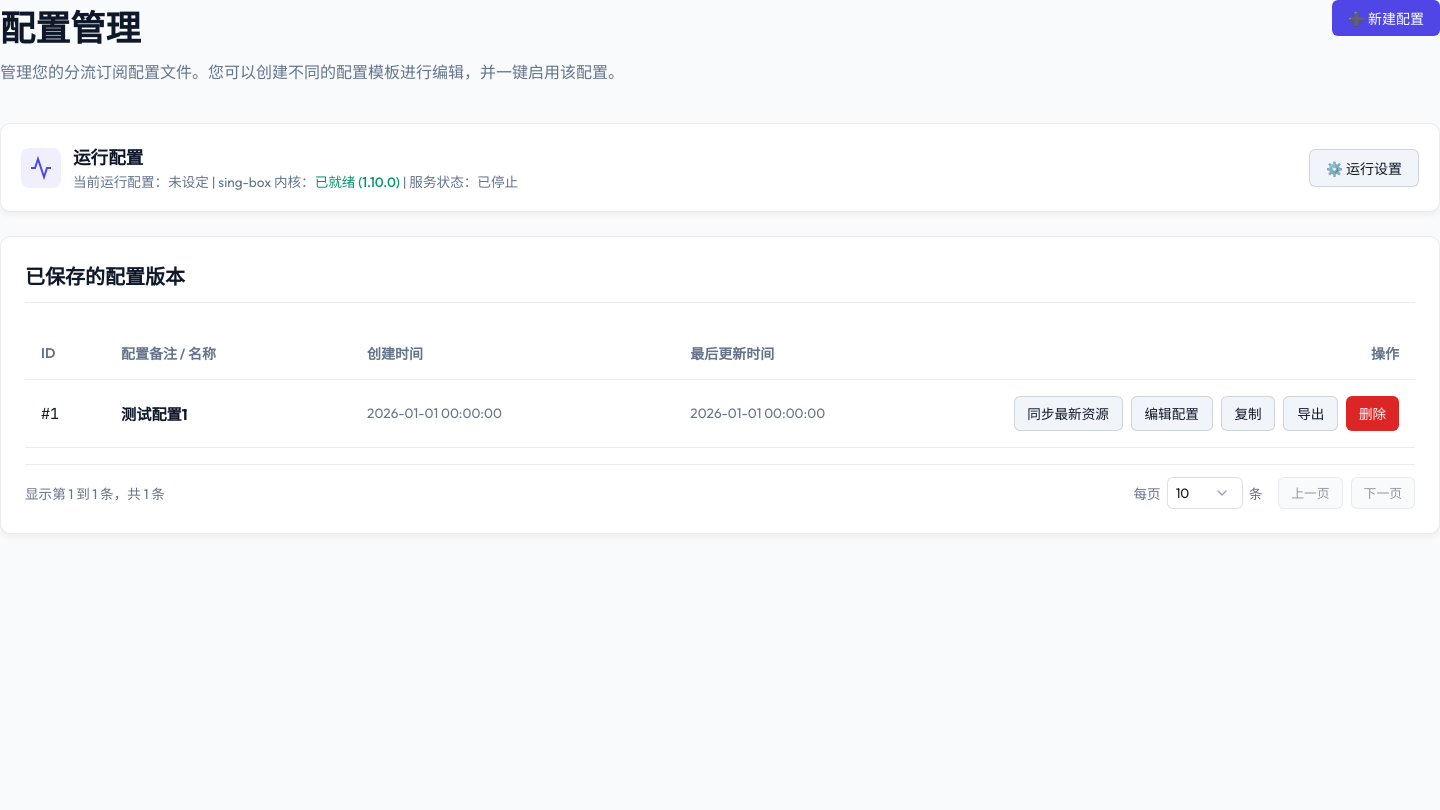
Test case: ConfigEditorView - groupImportModal 交互 › 模态框打开与关闭 › 弹窗打开后，DB 中所有组都应显示在列表中
The image size is (1440, 810).
Click the button "编辑配置".
click(1172, 413)  # box top-left (1131, 396), bottom-right (1213, 431)
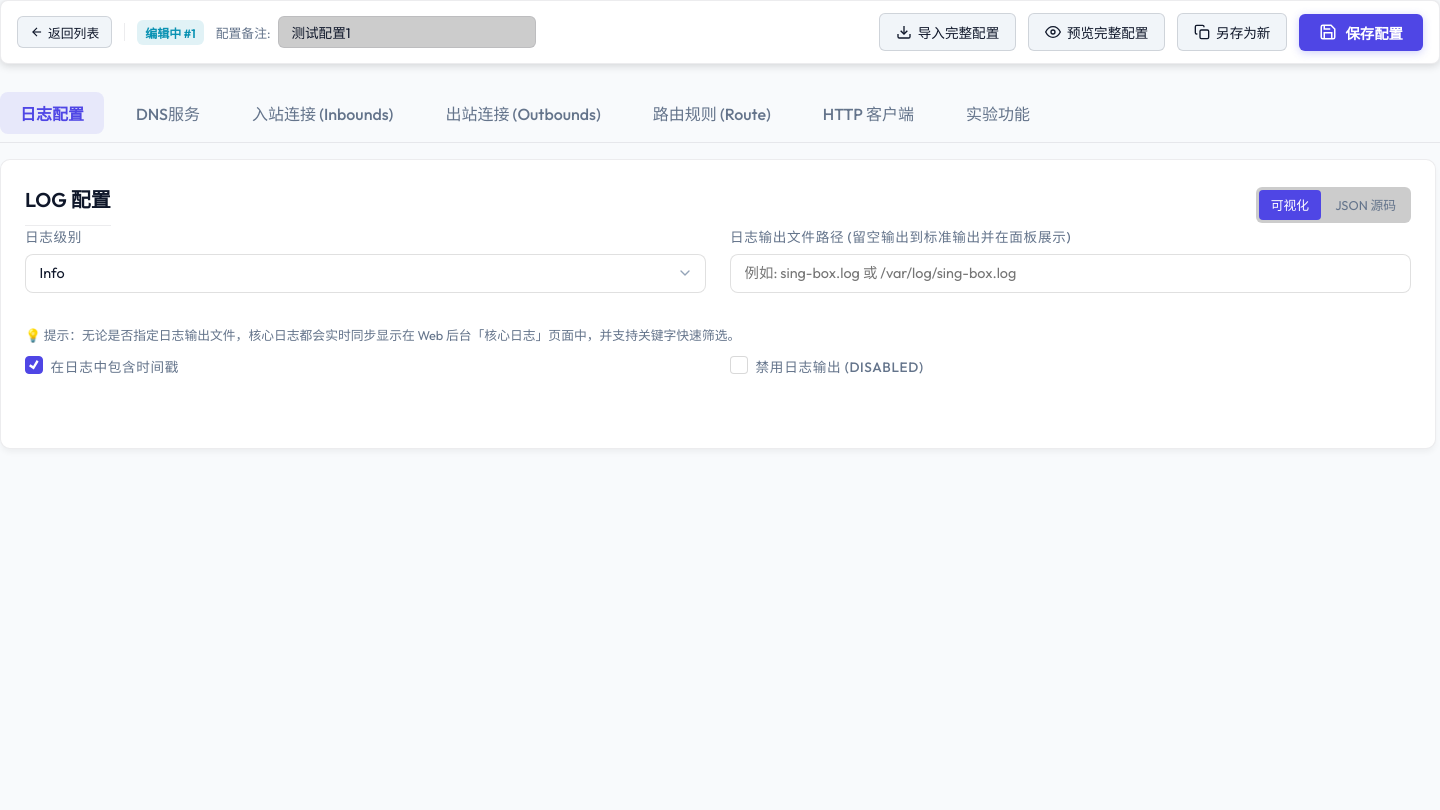
Click the text with class "tab" showing "出站连接 (Outbounds)".
click(523, 114)  # box top-left (445, 104), bottom-right (601, 124)
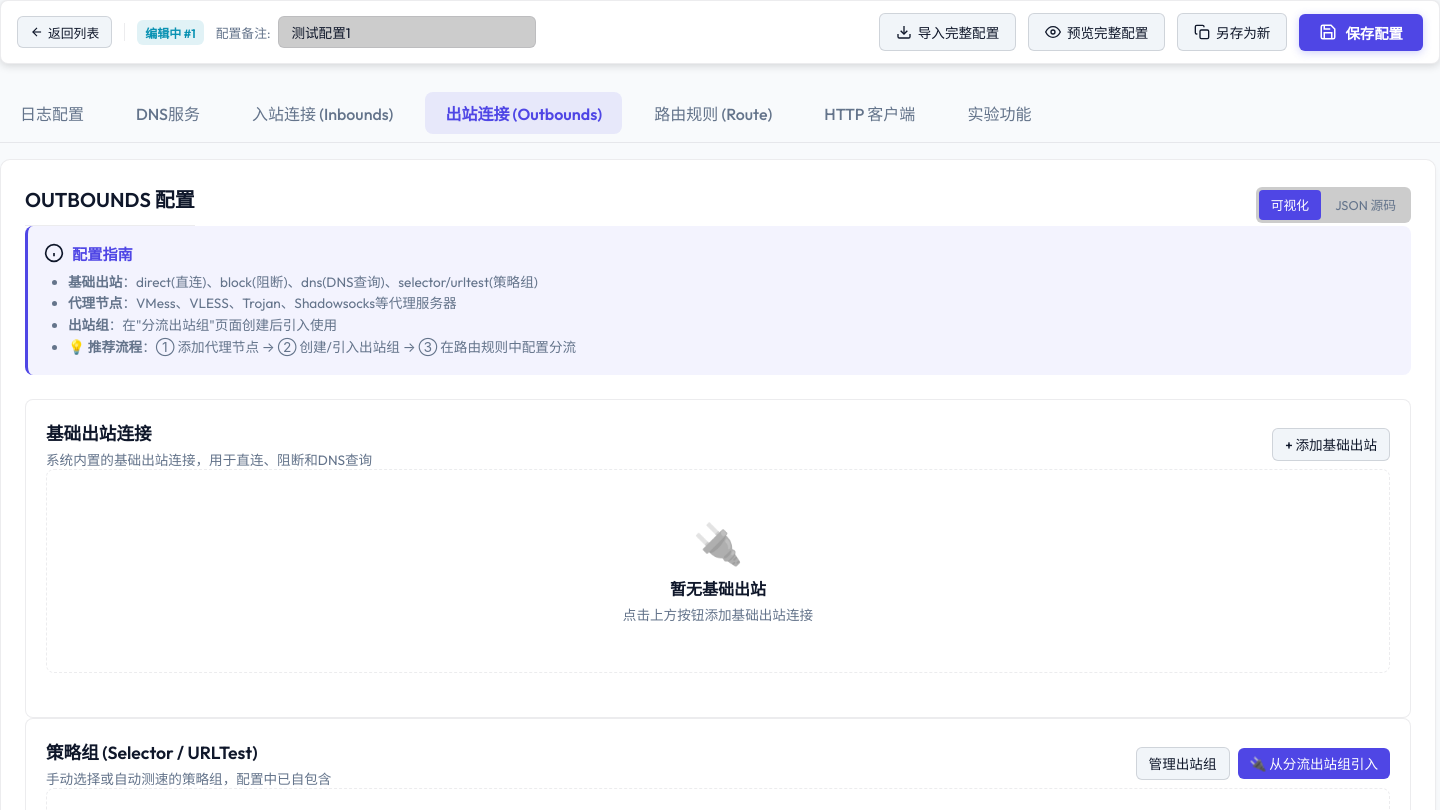
Click the button "🔌 从分流出站组引入".
click(1314, 763)  # box top-left (1238, 748), bottom-right (1390, 779)
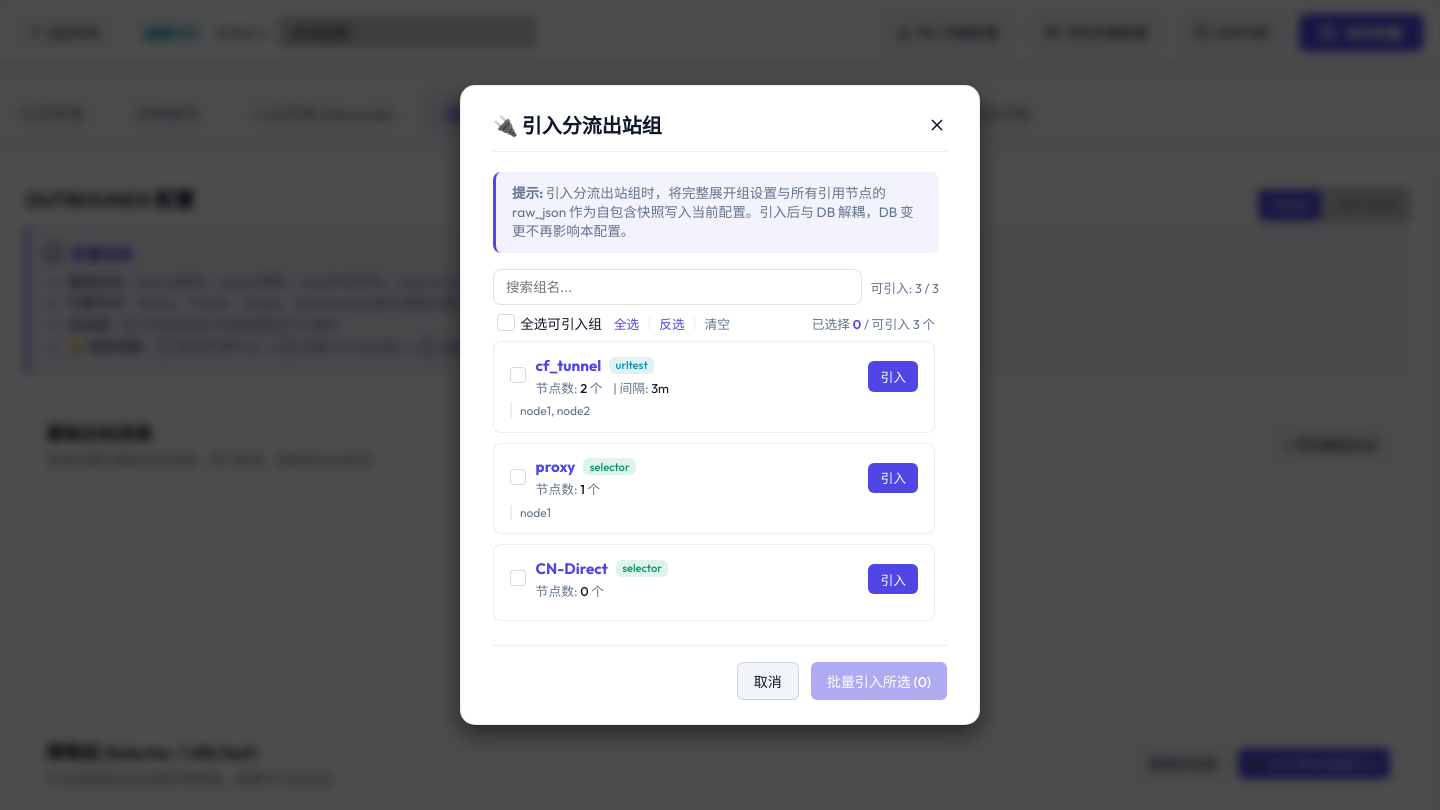
Expected: the text "cf_tunnel" is shown, top-left (536, 356), bottom-right (601, 375)
Expected: the text "proxy" is shown, top-left (536, 457), bottom-right (575, 476)
Expected: the text "CN-Direct" is shown, top-left (536, 559), bottom-right (608, 578)
